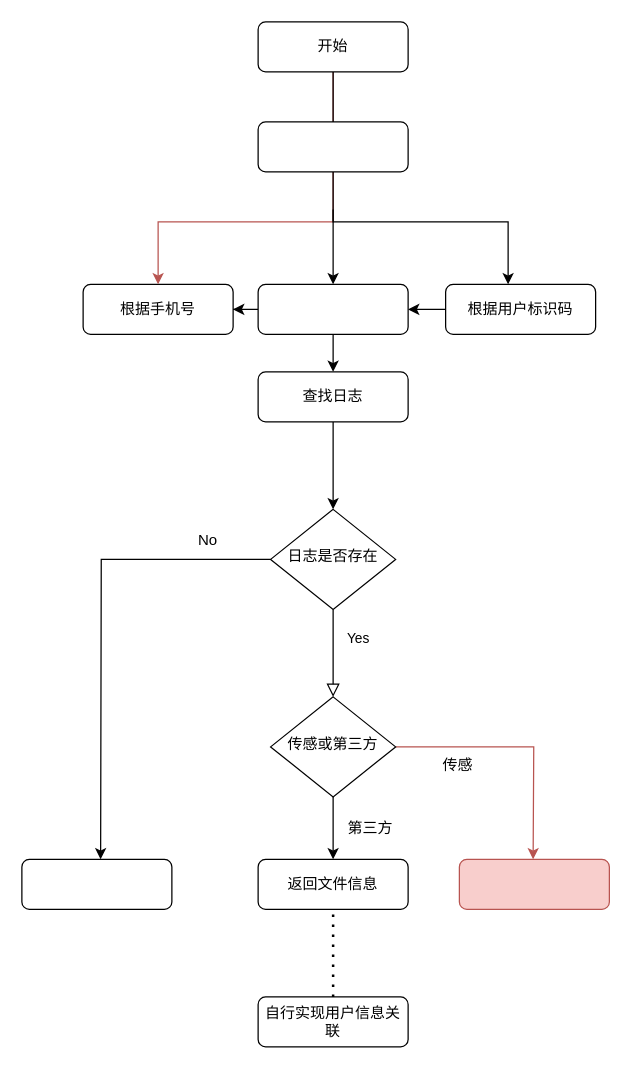
Image size: 631x1069. Some labels were removed from this diagram. Each missing label, with the box of its shape:
接入方标识: (257, 121, 408, 172)
根据日志唯一标识码: (257, 283, 408, 334)
返回日志文件链接及用户信息: (458, 858, 609, 909)
返回空: (21, 858, 172, 909)
